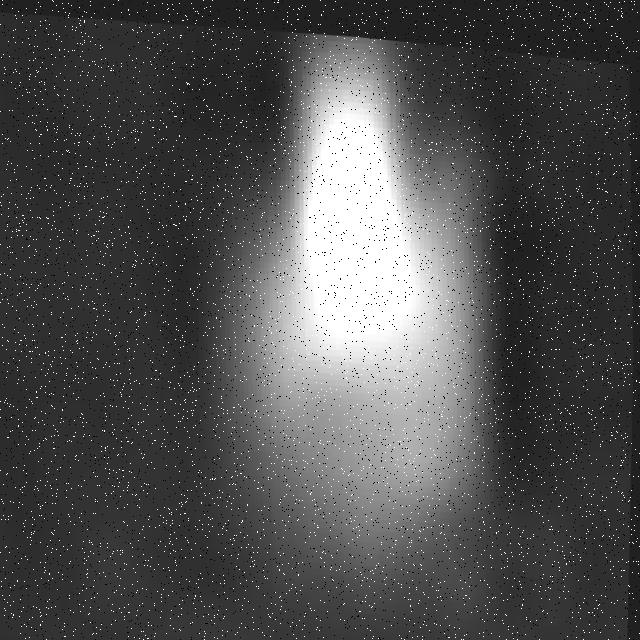person: (189, 17, 517, 639)
